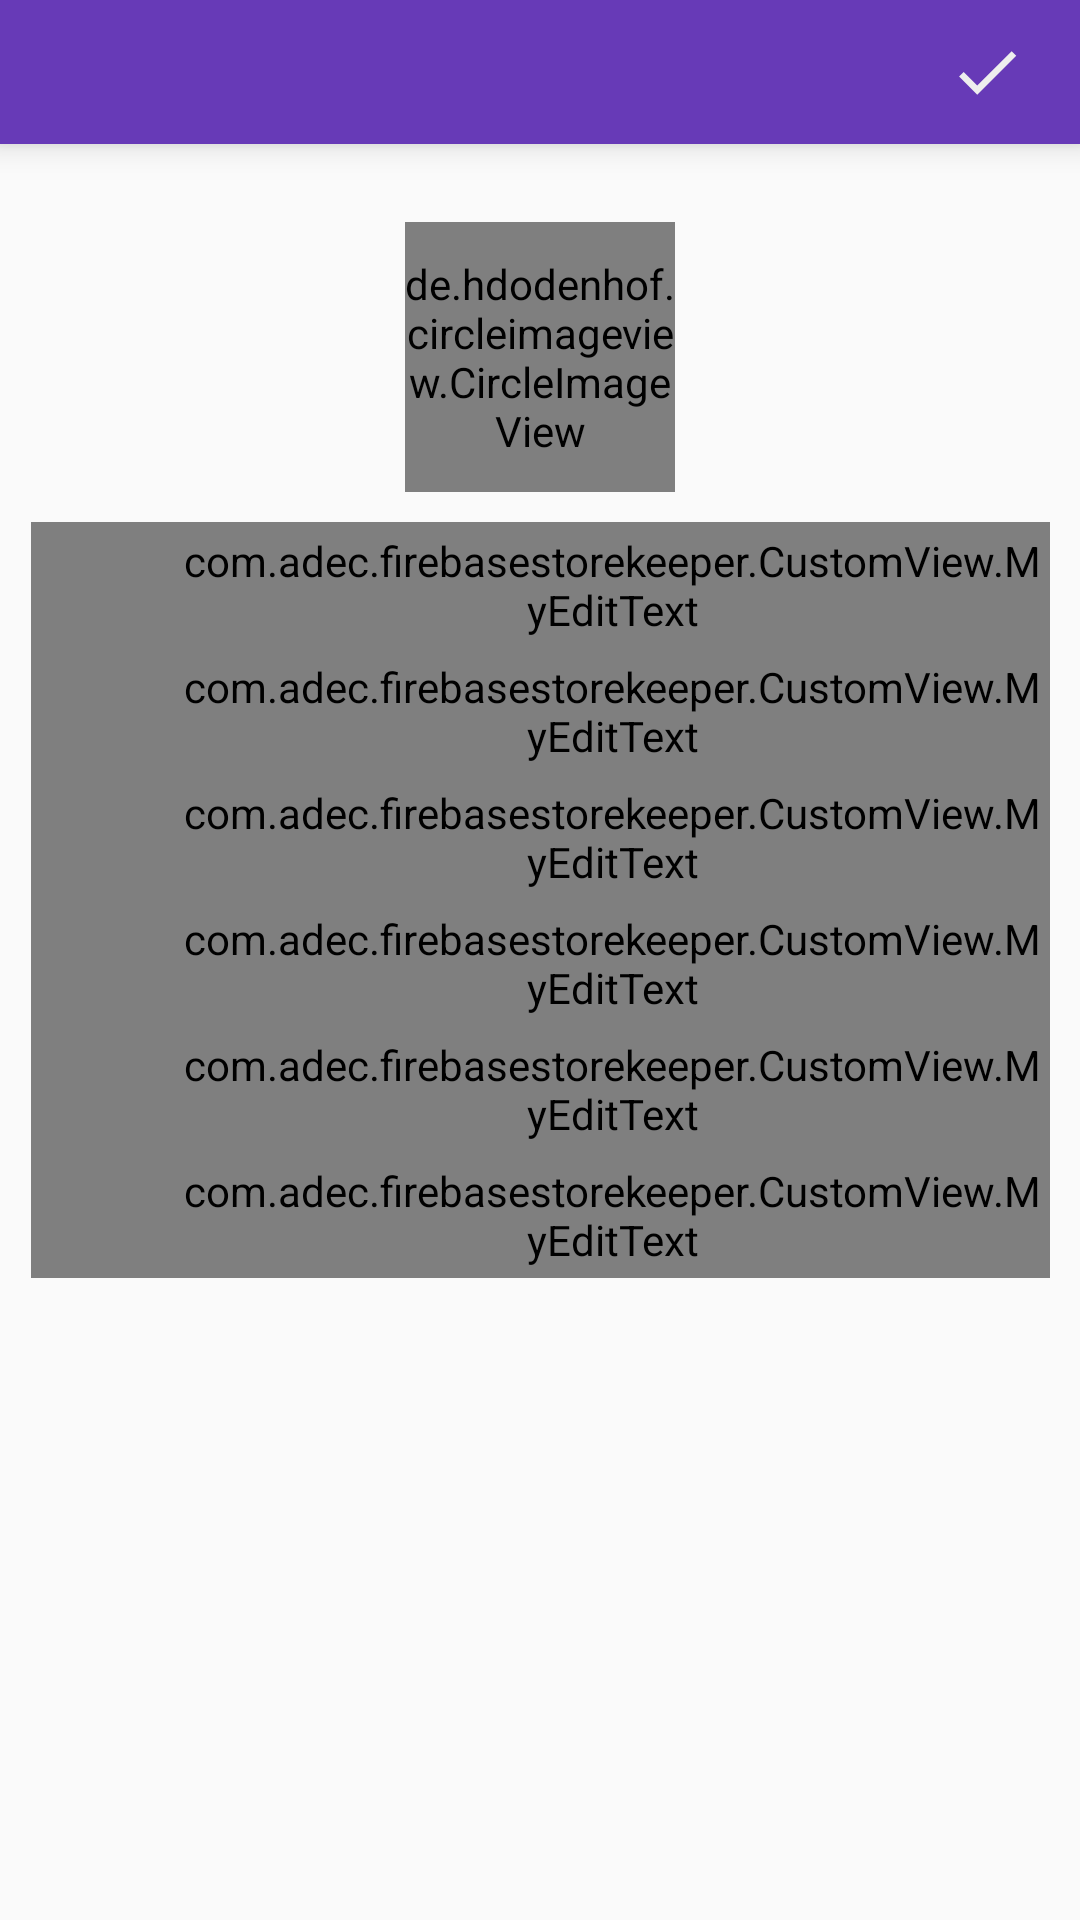

Icons on this 1080×1920 Android screen, each with the point to tap as (x=x, y=y):
tick: (x=987, y=73)
